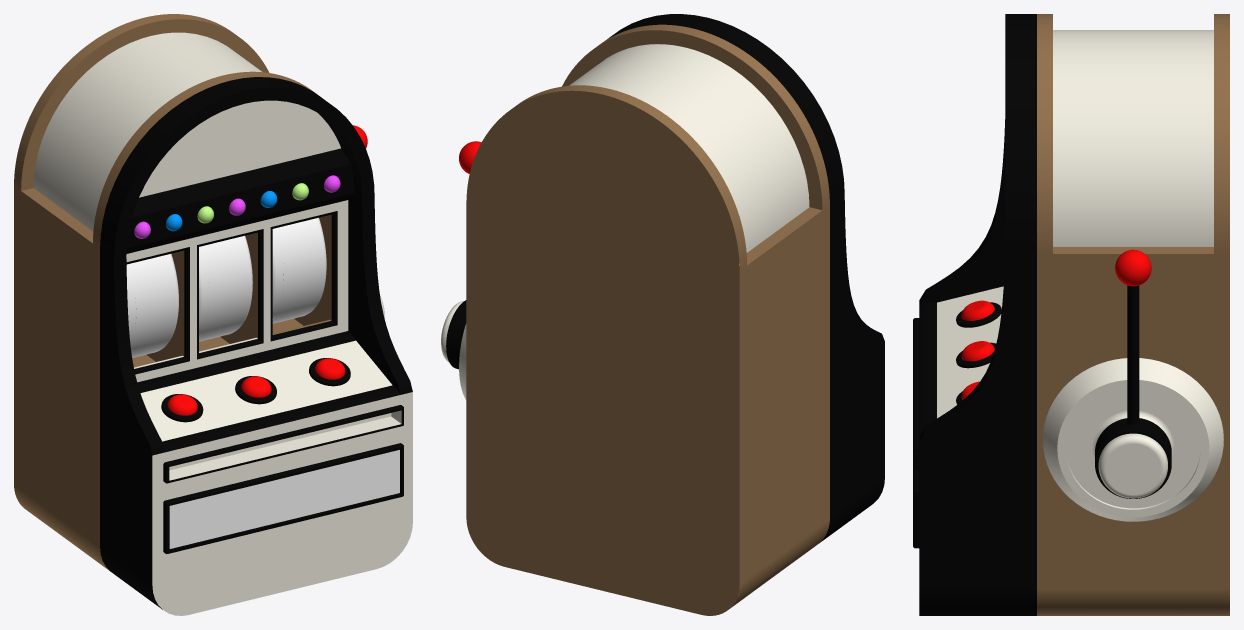
The model's file is SlotMachine.fbx.
The picture shows the model from 3 angles, left to right: view 1: azimuth 30°, elevation 25°; view 2: azimuth 150°, elevation 25°; view 3: azimuth 270°, elevation 25°; orthographic projection. The views are drawn at different scales.
Visible parts, largest first — view 1: lightwood, gold, wood, silver, white, Object_88, Object_89, Object_104, red, Object_81, Object_96, Object_97 (+1 smaller); view 2: wood, lightwood, gold; view 3: lightwood, wood, gold, red.
Part boxes in pixels (<box>): lightwood: <box>33,32,412,615</box>; gold: <box>100,77,412,609</box>; wood: <box>14,14,339,570</box>; silver: <box>126,148,354,253</box>; white: <box>169,450,399,548</box>; Object_88: <box>272,217,326,319</box>; Object_89: <box>199,235,252,336</box>; Object_104: <box>126,254,178,353</box>; red: <box>167,125,367,415</box>; Object_81: <box>282,251,316,293</box>; Object_96: <box>209,269,242,311</box>; Object_97: <box>135,287,168,329</box>; wood: <box>466,24,829,615</box>; lightwood: <box>441,44,809,400</box>; gold: <box>446,14,884,543</box>; lightwood: <box>937,30,1223,521</box>; wood: <box>1037,14,1229,615</box>; gold: <box>913,14,1171,615</box>; red: <box>961,249,1151,399</box>.
Bounding box in the file's own units: 17.3 × 24.86 × 13.46.
